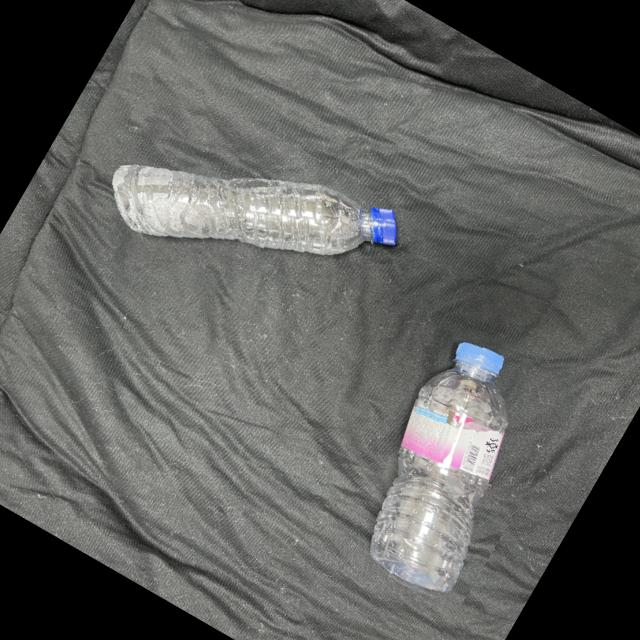plastic bottle: (352, 317, 549, 612), (104, 156, 409, 268)
